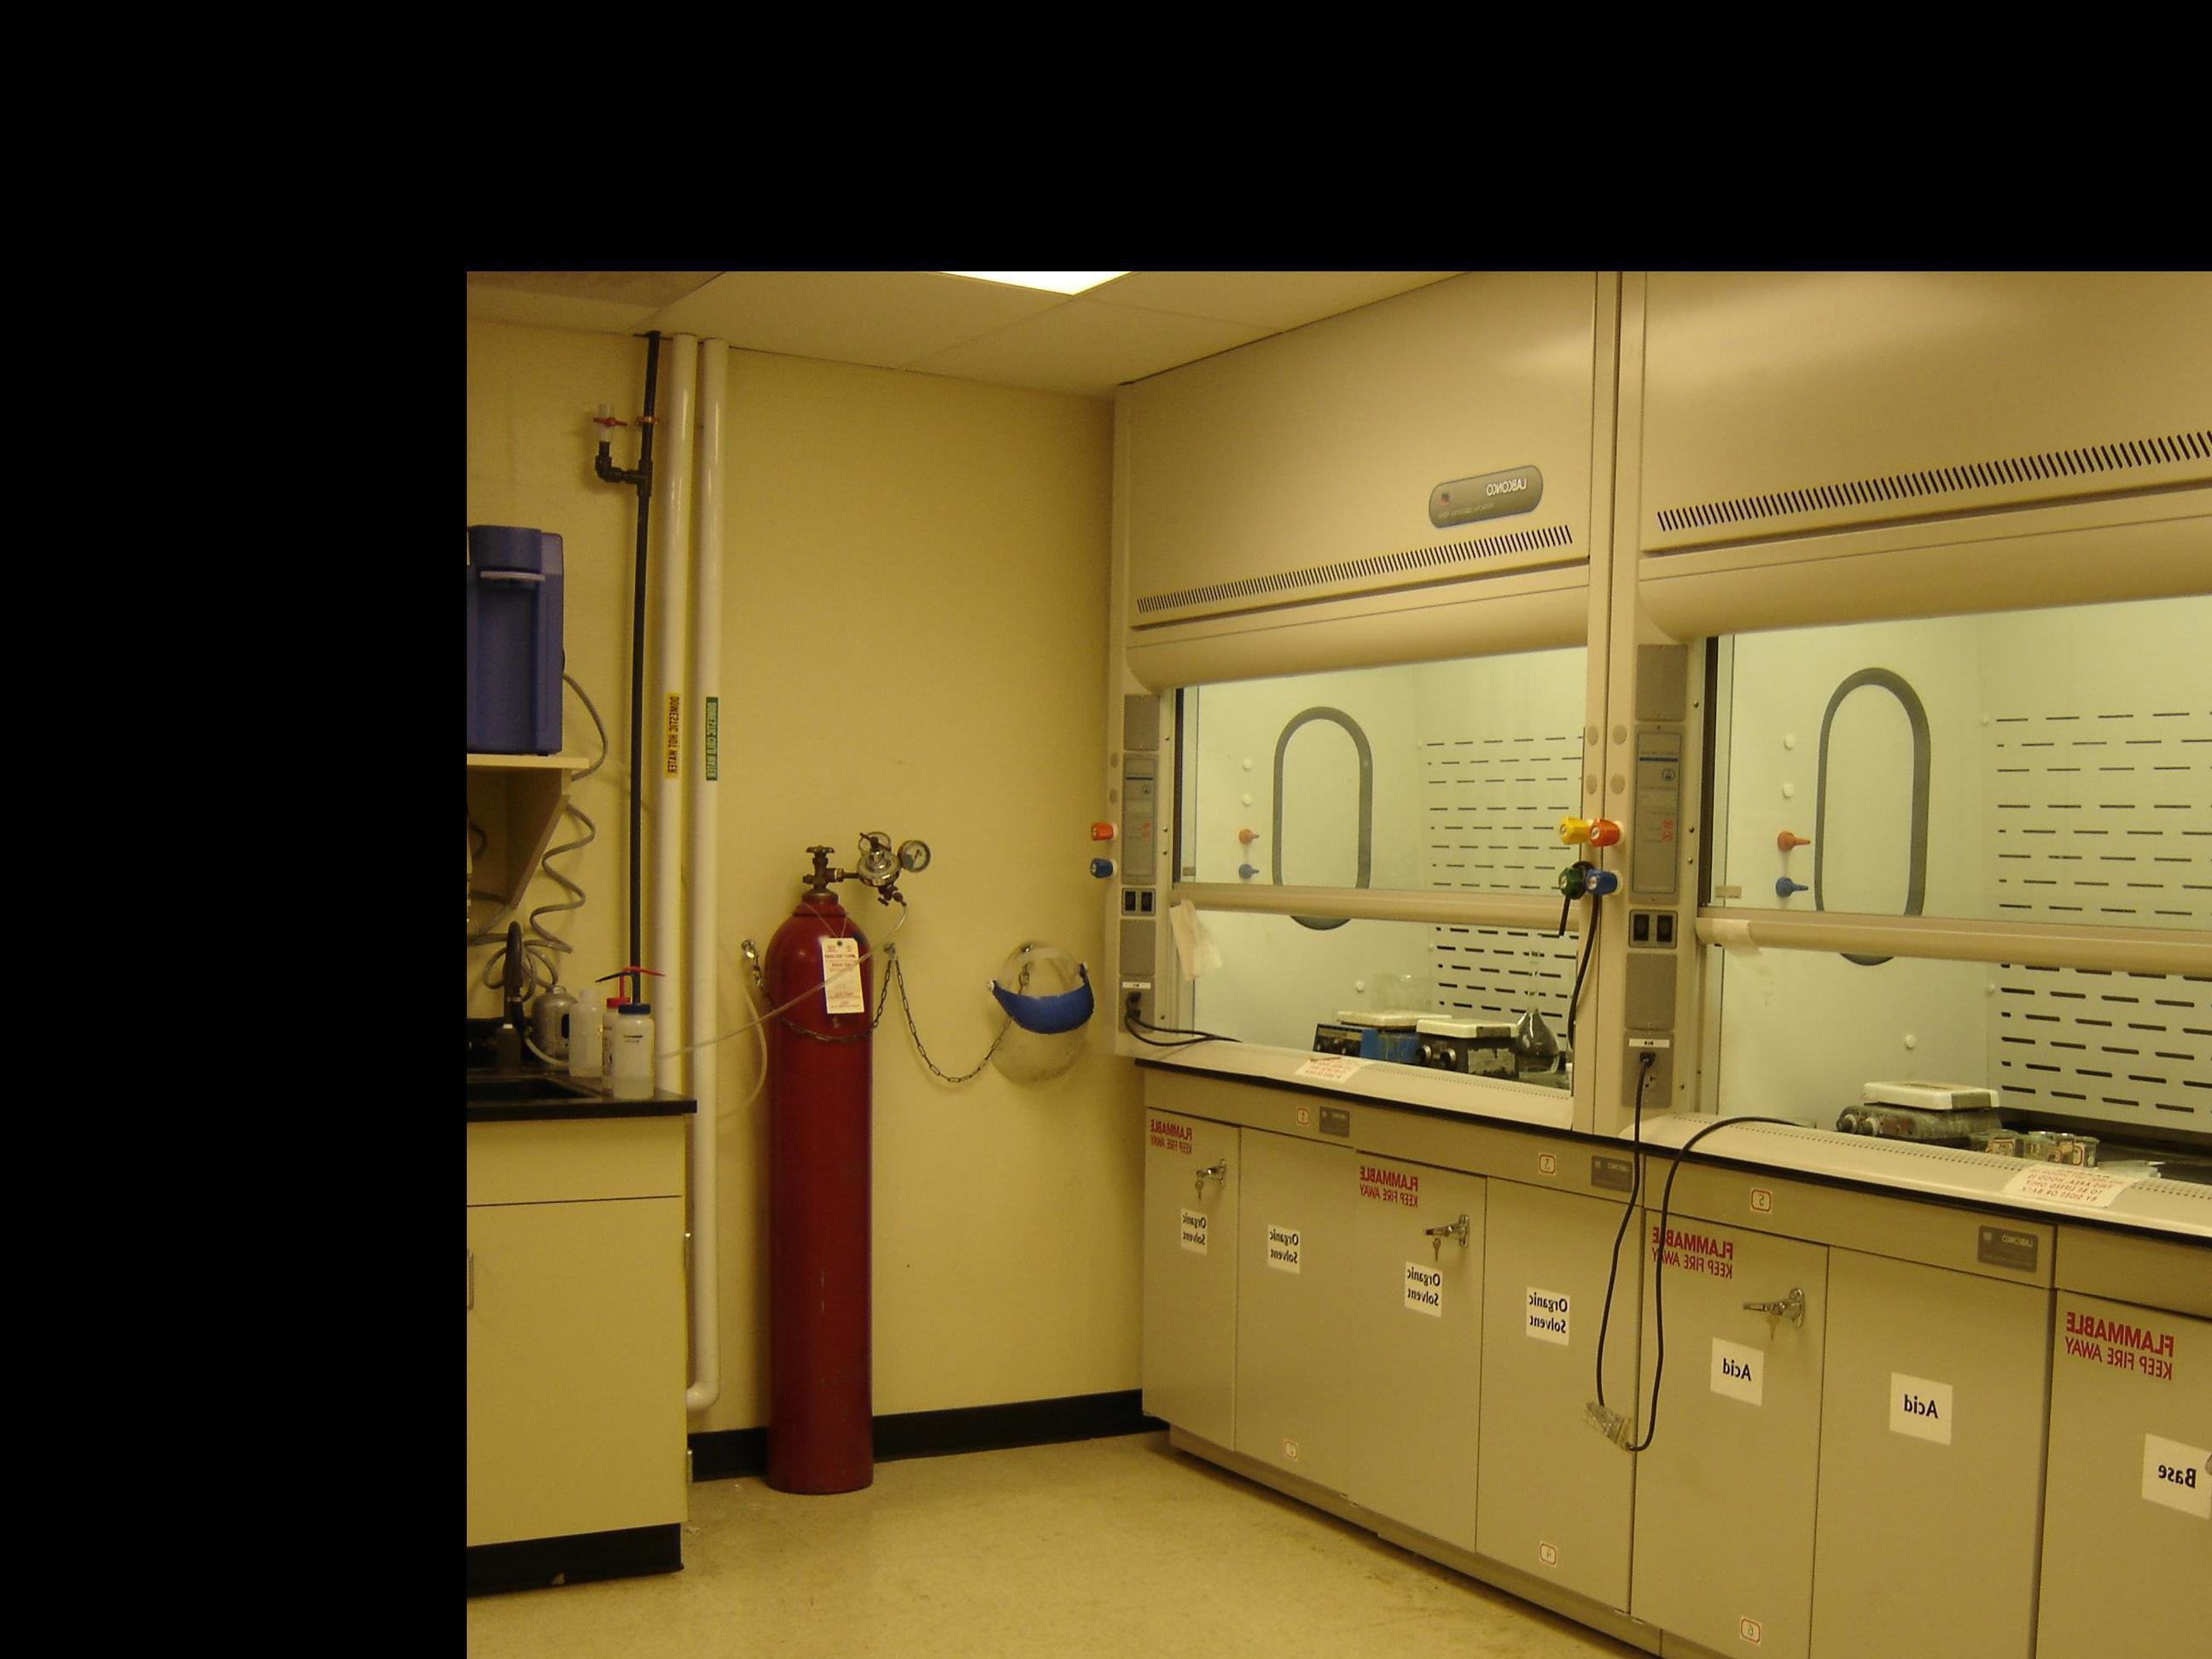Armario: (1616, 1251, 2026, 1659), (1339, 1166, 1616, 1575), (1120, 1140, 1334, 1488), (2038, 1312, 2212, 1659)
